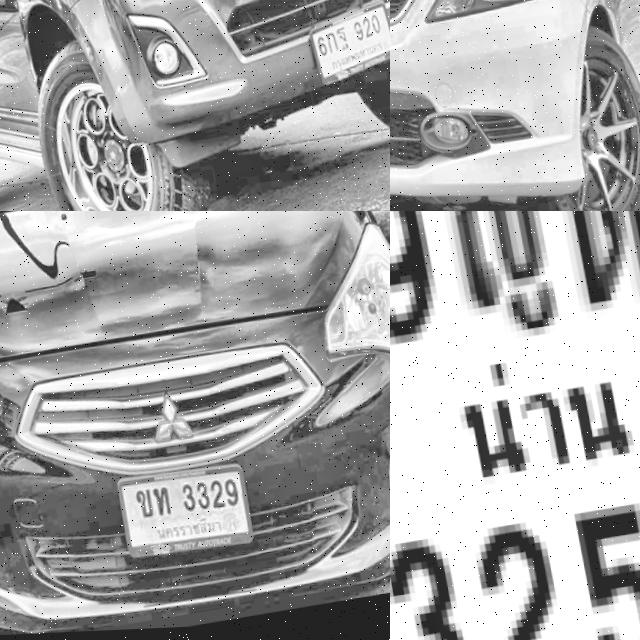license-plate: (390, 211, 640, 640), (107, 455, 251, 568), (296, 1, 390, 94)
